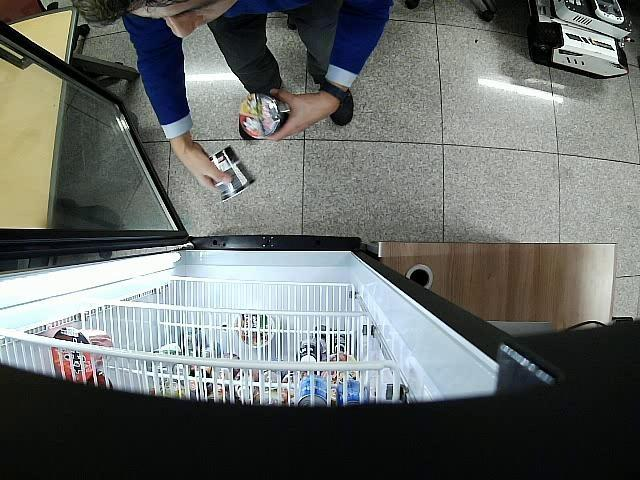08_buldak_S: (208, 145, 257, 202), (240, 93, 290, 139)
